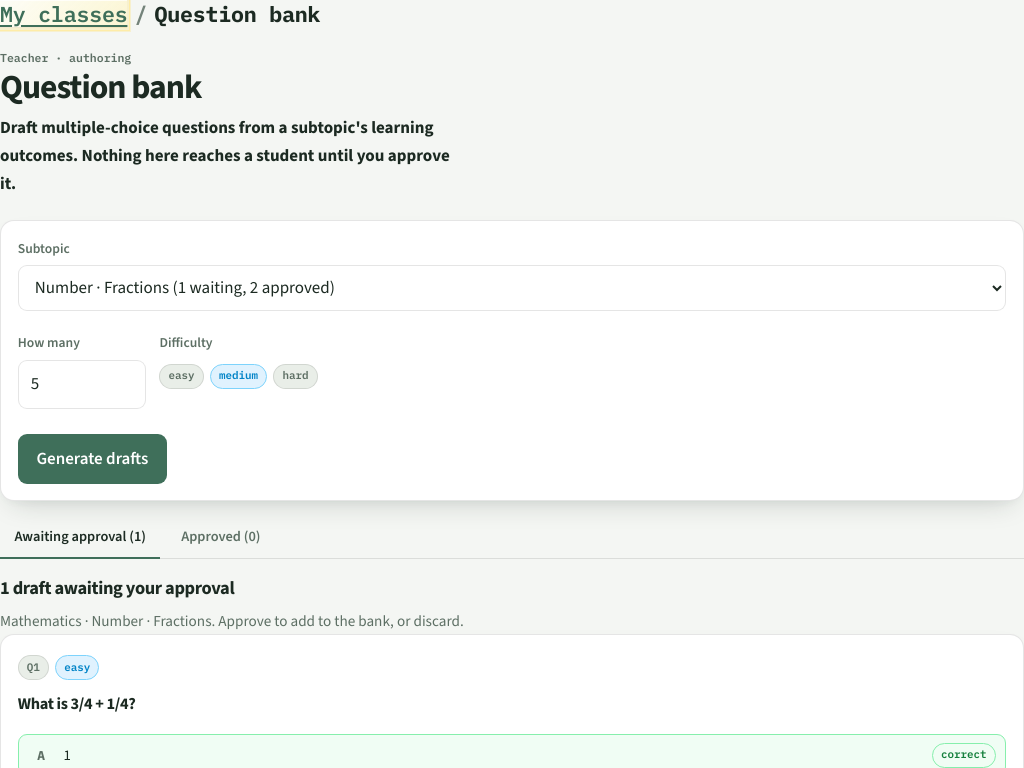
QuestionBankPage › offers the download only once something has been approved
Expected: the heading "What is 3/4 + 1/4?" is shown, [18,693,136,714]
Click the tab "Approved (0)". click: (221, 538)
box: [167,517,275,559]
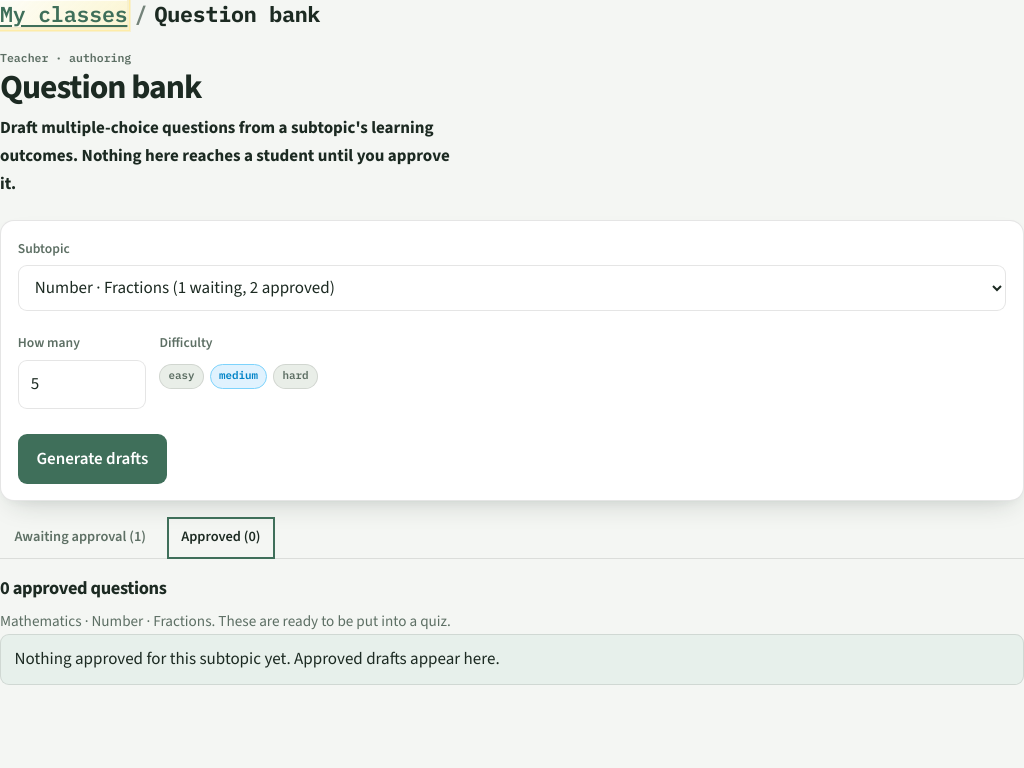
Now the text "Nothing approved for this subtopic yet. Approved drafts appear here." is shown, box [0,634,1023,684]
